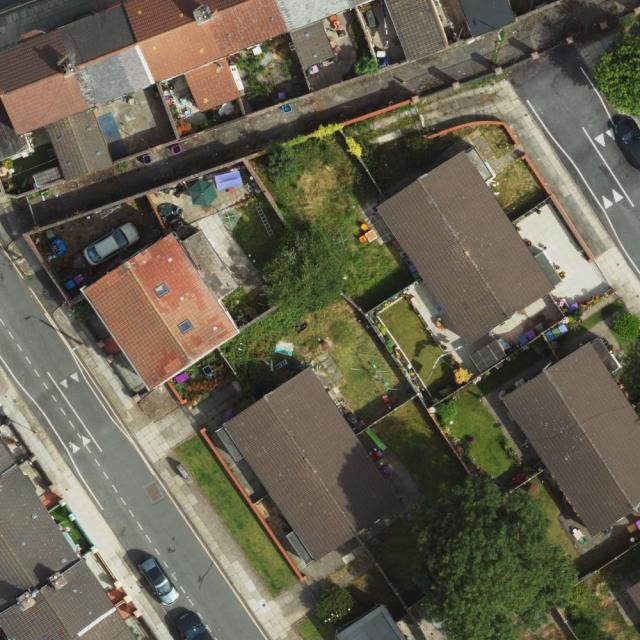roof: (0, 0, 378, 183), (375, 153, 559, 345), (230, 366, 401, 561), (0, 438, 140, 640), (499, 342, 640, 538), (86, 232, 236, 392), (382, 0, 450, 65), (338, 606, 405, 640), (461, 0, 518, 39), (628, 581, 640, 610)
skylight: (152, 278, 175, 301), (175, 318, 196, 337)
